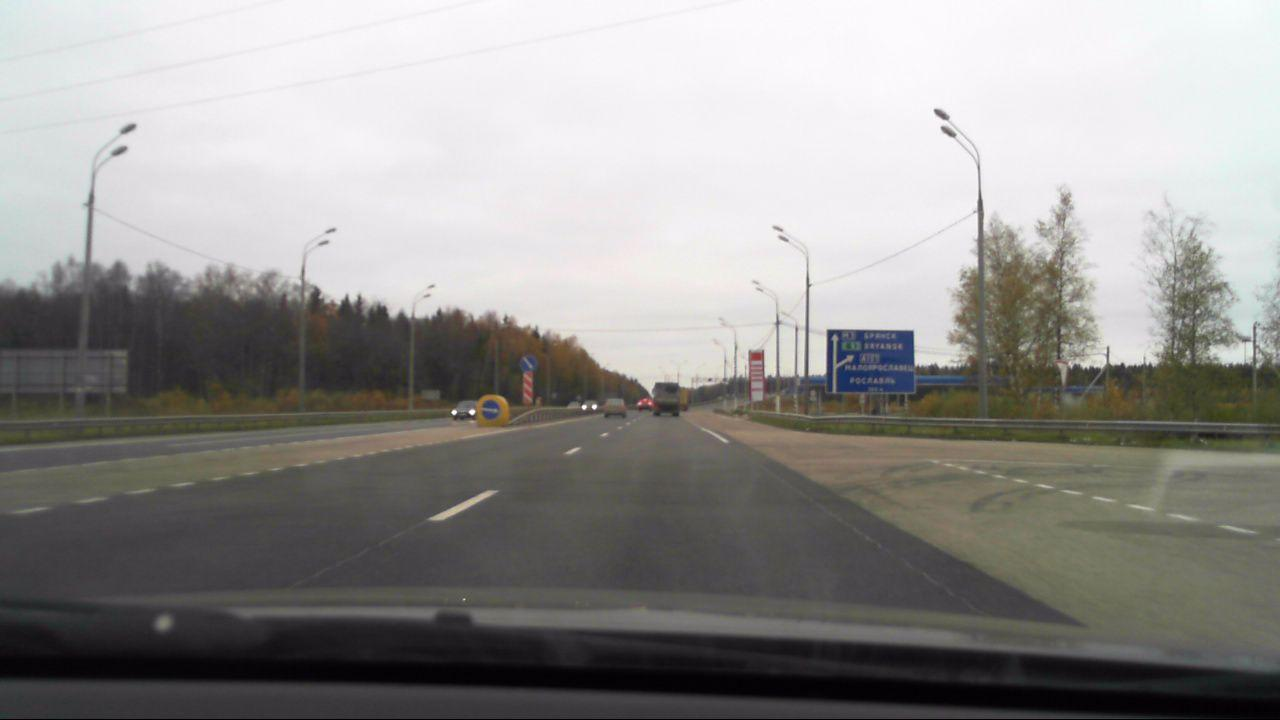4_2_1: (479, 398, 501, 420), (519, 353, 537, 371)
8_22_1: (522, 370, 533, 406)
